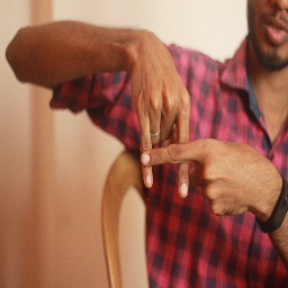H: (118, 93, 217, 212)
